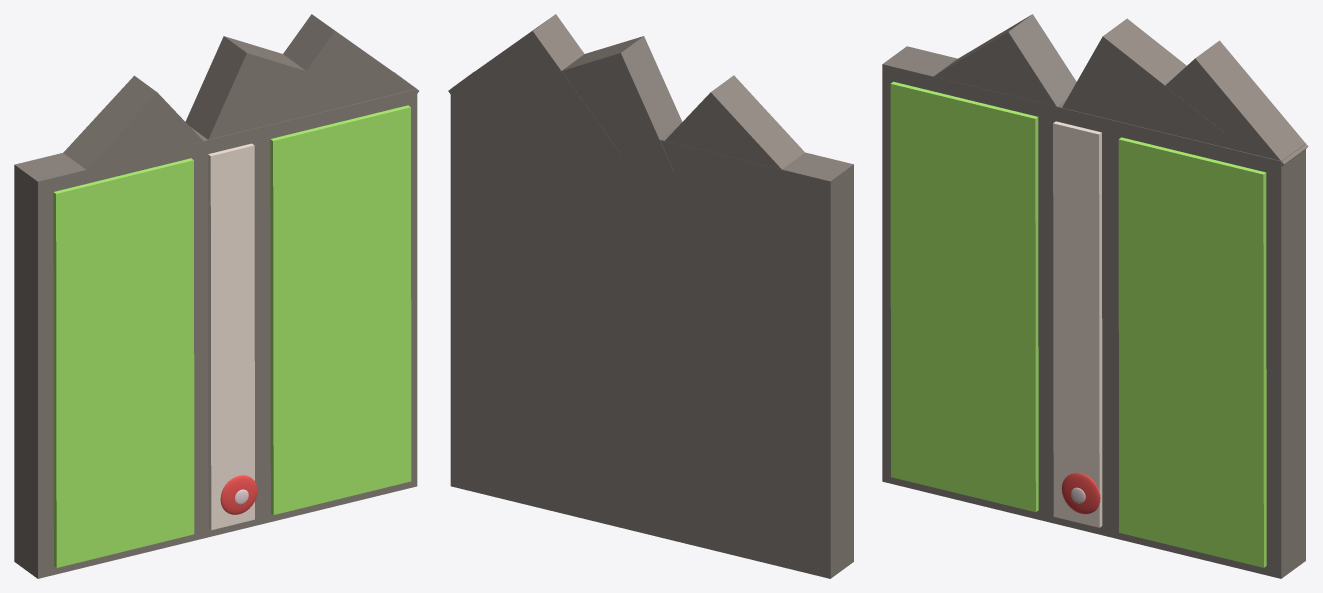
Rendered from MAP.fbx.
The picture shows the model from 3 angles, left to right: view 1: azimuth 30°, elevation 25°; view 2: azimuth 150°, elevation 25°; view 3: azimuth 330°, elevation 25°; orthographic projection. The views are drawn at different scales.
Visible parts, largest first — view 1: Cube.005, Cube.006, Cube, Cube.004, Cube.002, Cube.001, Cube.003, Sphere; view 2: Cube, Cube.003, Cube.002, Cube.001; view 3: Cube.005, Cube.006, Cube, Cube.004, Cube.002, Cube.003, Cube.001, Sphere.
Boxes of the visible parts, bbox=[...] form: Cube.005: bbox=[53, 158, 194, 567]; Cube.006: bbox=[270, 105, 411, 514]; Cube: bbox=[14, 72, 417, 578]; Cube.004: bbox=[208, 143, 254, 530]; Cube.002: bbox=[185, 36, 364, 139]; Cube.001: bbox=[63, 75, 203, 169]; Cube.003: bbox=[283, 14, 418, 102]; Sphere: bbox=[220, 475, 257, 514]; Cube: bbox=[450, 72, 853, 578]; Cube.003: bbox=[448, 14, 621, 215]; Cube.002: bbox=[554, 36, 682, 207]; Cube.001: bbox=[665, 75, 804, 169]; Cube.005: bbox=[890, 81, 1038, 512]; Cube.006: bbox=[1118, 137, 1266, 567]; Cube: bbox=[882, 46, 1305, 578]; Cube.004: bbox=[1053, 121, 1102, 527]; Cube.002: bbox=[1062, 18, 1226, 146]; Cube.003: bbox=[1165, 40, 1308, 166]; Cube.001: bbox=[934, 14, 1076, 106]; Sphere: bbox=[1061, 472, 1100, 514].
Size of the model in its own units: 201 by 239 by 30.05.
